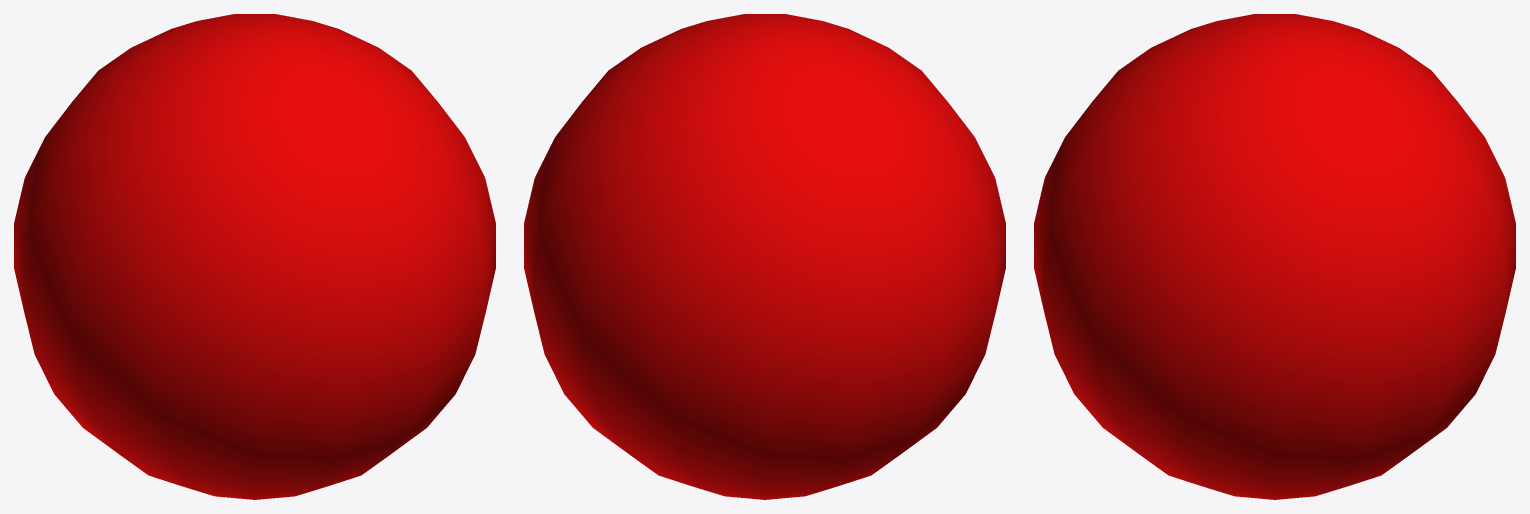
File: projectile_laserball.fbx
3 views of the same model, side by side, from view 1: azimuth 30°, elevation 25°; view 2: azimuth 150°, elevation 25°; view 3: azimuth 270°, elevation 25° (orthographic).
Visible parts, largest first — view 1: pSphere1; view 2: pSphere1; view 3: pSphere1.
Part boxes in pixels (<box>): pSphere1: <box>14,14,495,499</box>; pSphere1: <box>524,14,1005,499</box>; pSphere1: <box>1034,14,1515,499</box>.
Size of the model in its own units: 1.97 by 2 by 1.98.
